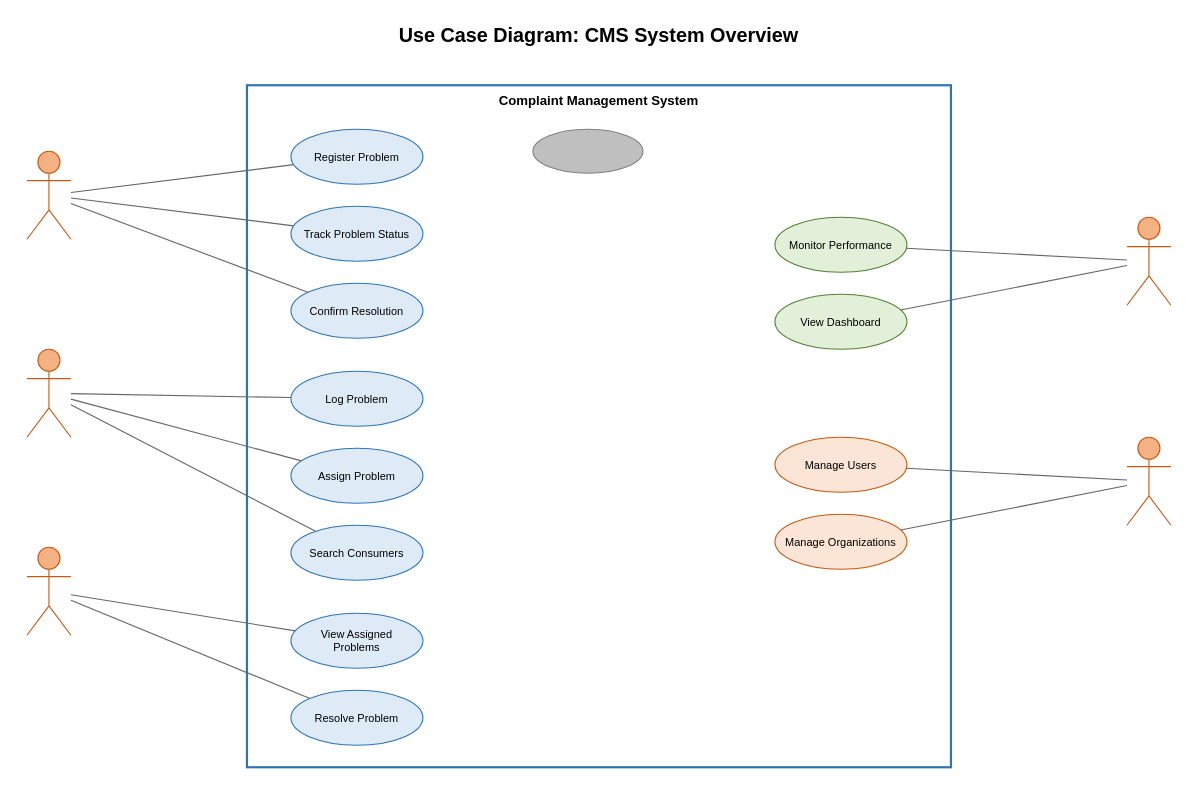
Some shapes in this 1194 by 787 pixel diagram are drawn without their labels. Each missing label, with the centre of its shape:
Admin: point (1148, 480)
Consumer: point (48, 194)
Help Desk Agent: point (48, 392)
Login: point (587, 150)
Manager: point (1148, 260)
Support Person: point (48, 590)
